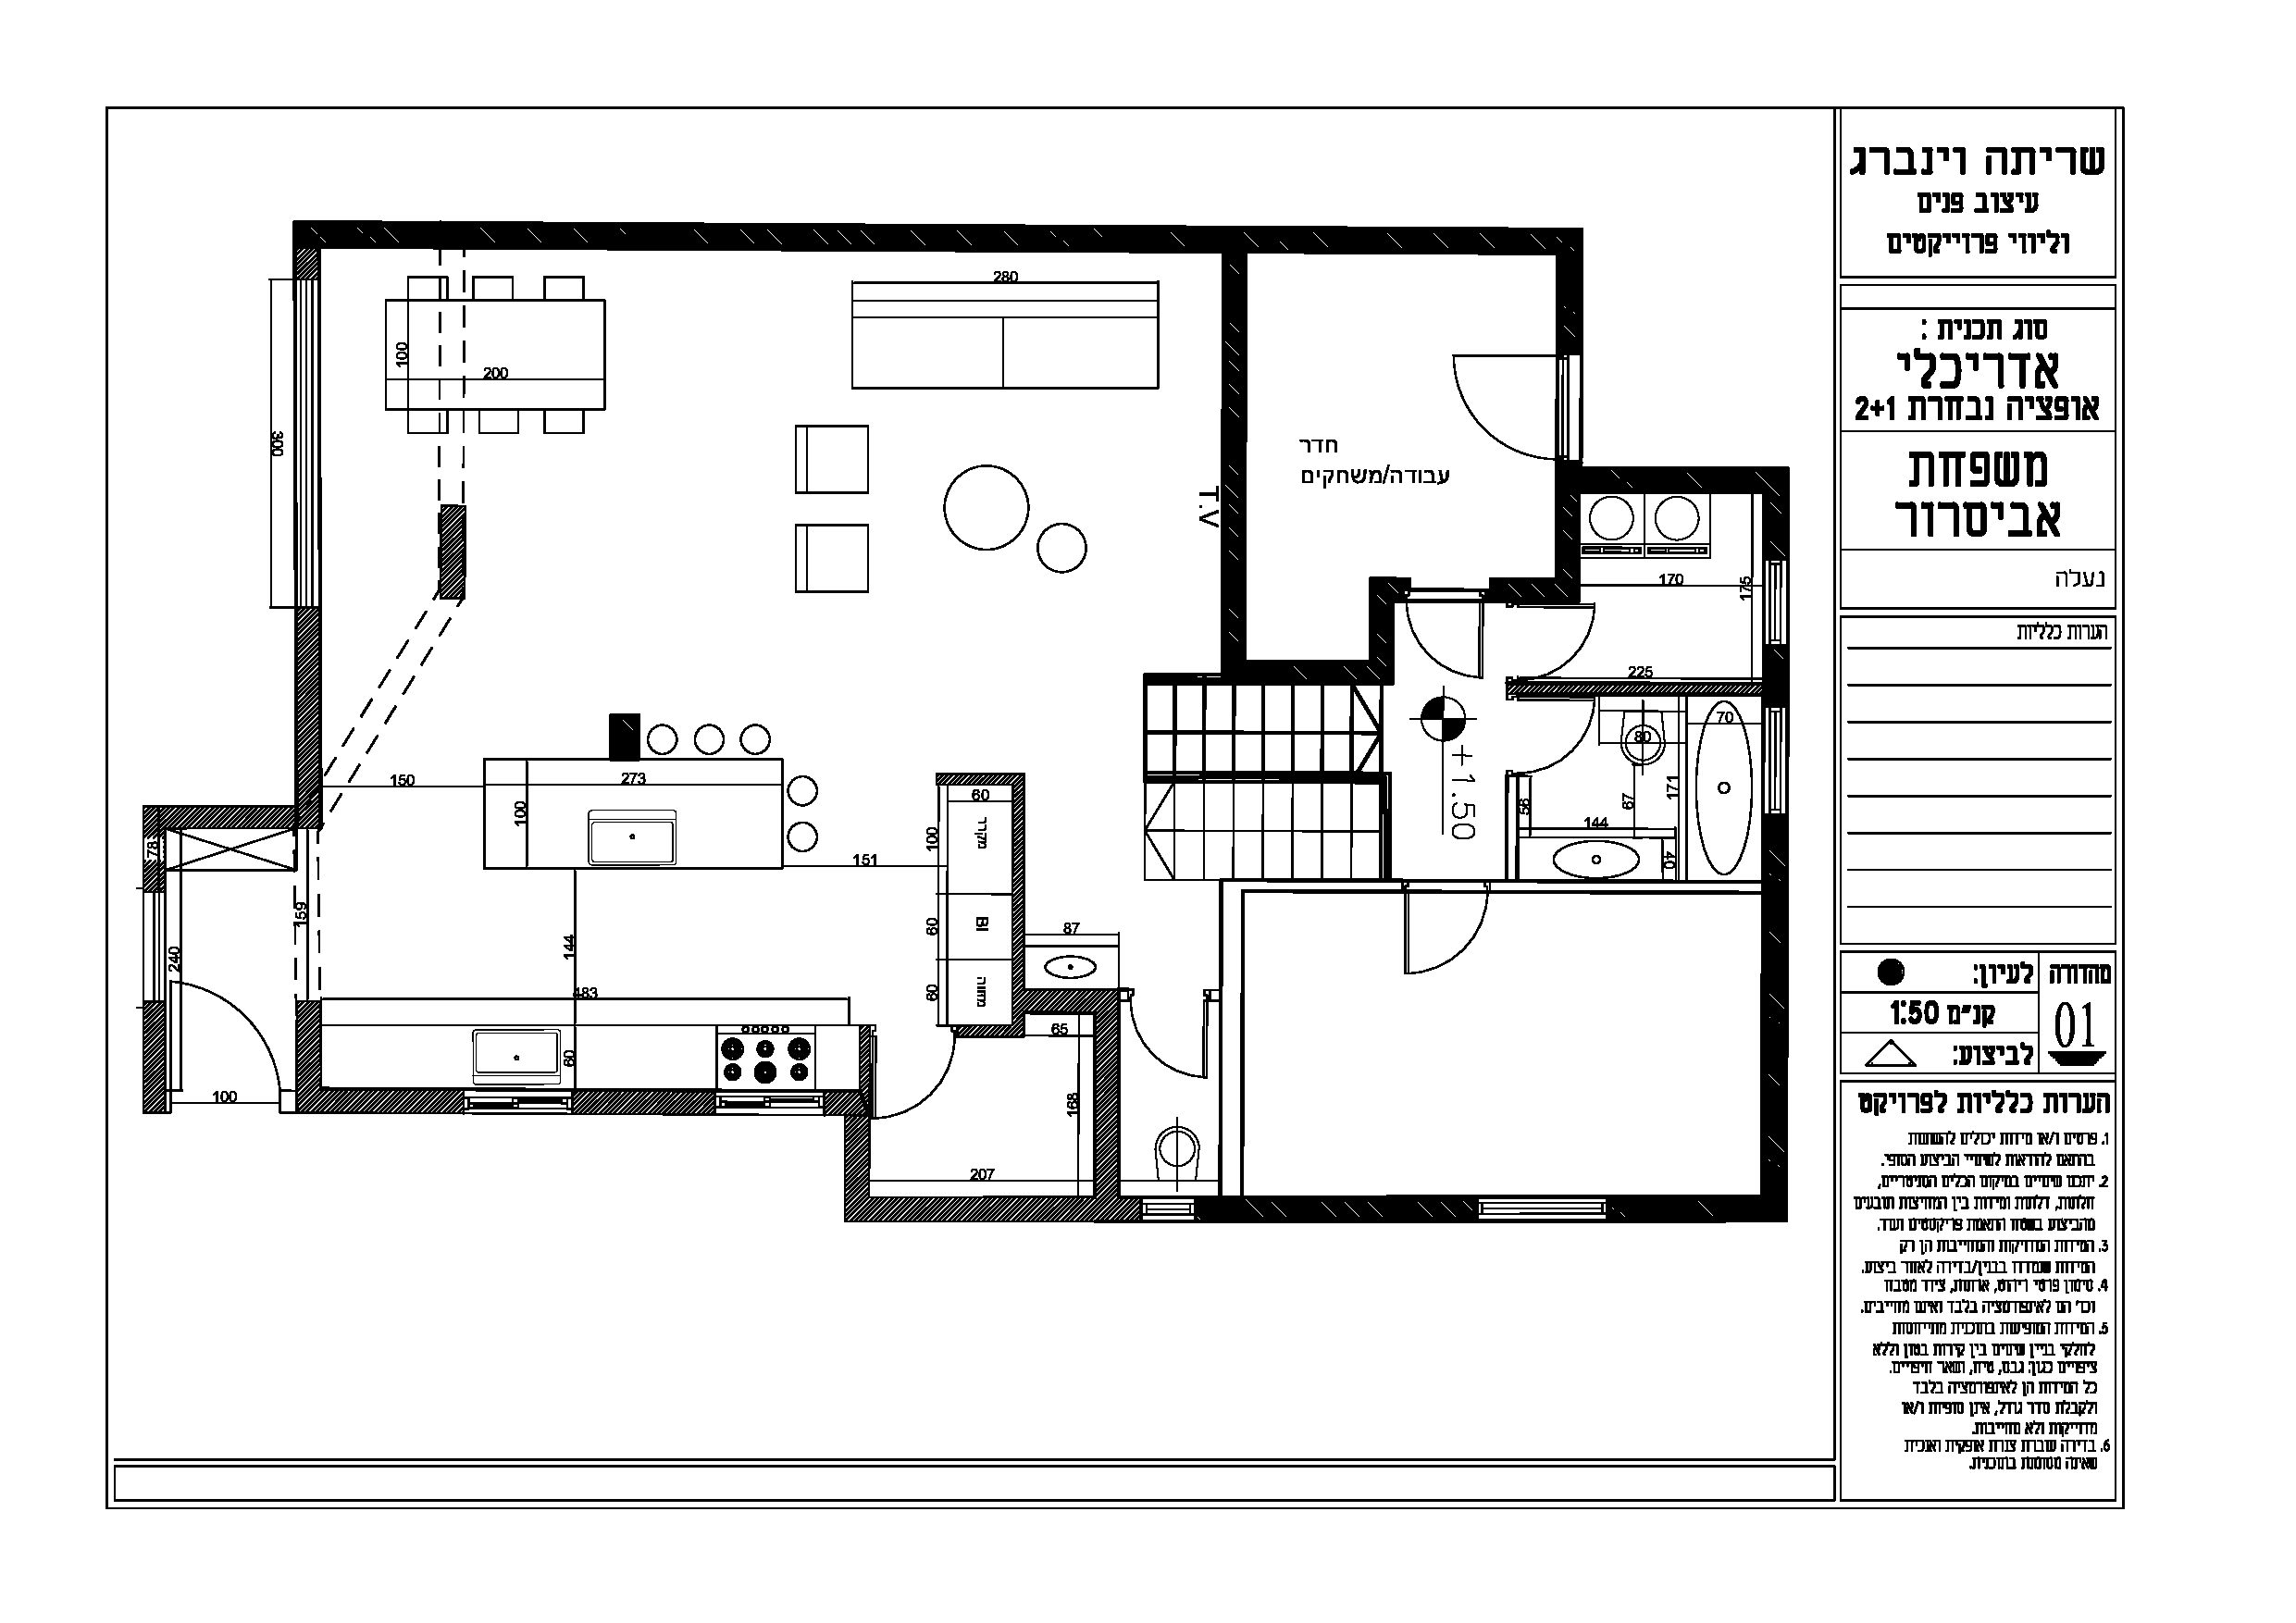window: (290, 278, 323, 611), (1476, 1193, 1609, 1223), (462, 1084, 573, 1117), (711, 1089, 824, 1117), (1762, 704, 1787, 815), (1762, 557, 1788, 648), (1137, 1194, 1198, 1223)
